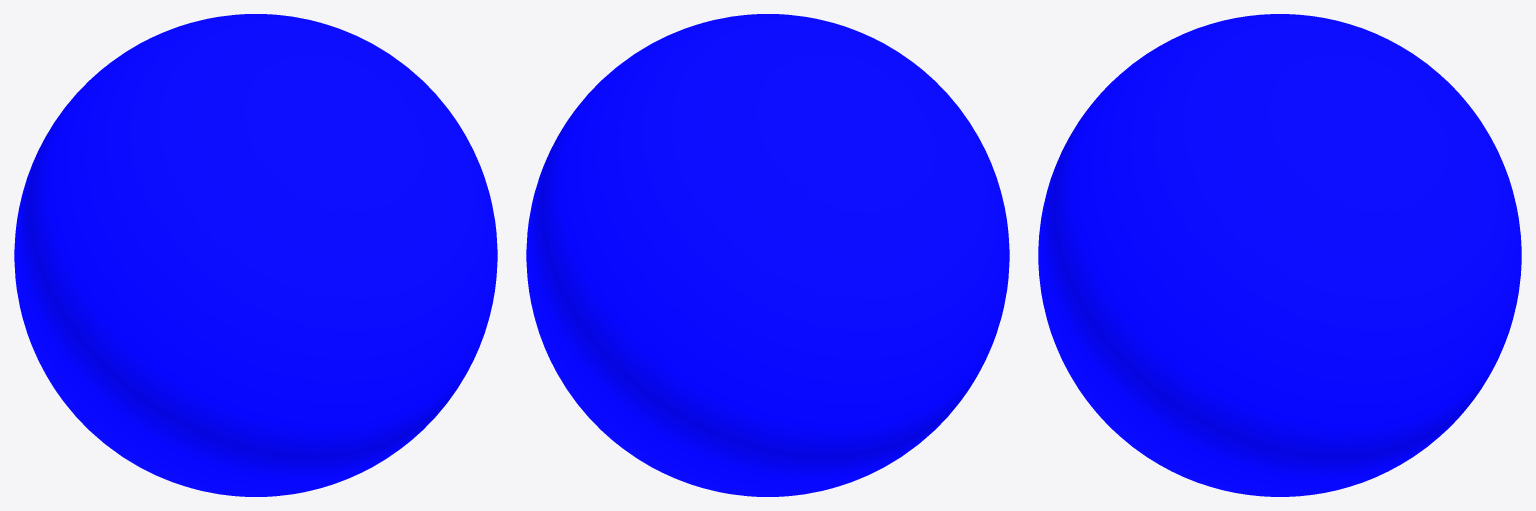
File: orbital_n2_l0_m0_real_signed.fbx
3 renders of one model, left to right at view 1: azimuth 30°, elevation 25°; view 2: azimuth 150°, elevation 25°; view 3: azimuth 270°, elevation 25°, orthographic.
Parts seen in each view (by area): view 1: orbital_n2_l0_m0_real_signed; view 2: orbital_n2_l0_m0_real_signed; view 3: orbital_n2_l0_m0_real_signed.
Boxes of the visible parts, left/top/right/bottom form: orbital_n2_l0_m0_real_signed: left=14, top=14, right=497, bottom=496; orbital_n2_l0_m0_real_signed: left=526, top=14, right=1009, bottom=496; orbital_n2_l0_m0_real_signed: left=1038, top=14, right=1521, bottom=496.
Size of the model in its own units: 1441 by 1441 by 1441.
